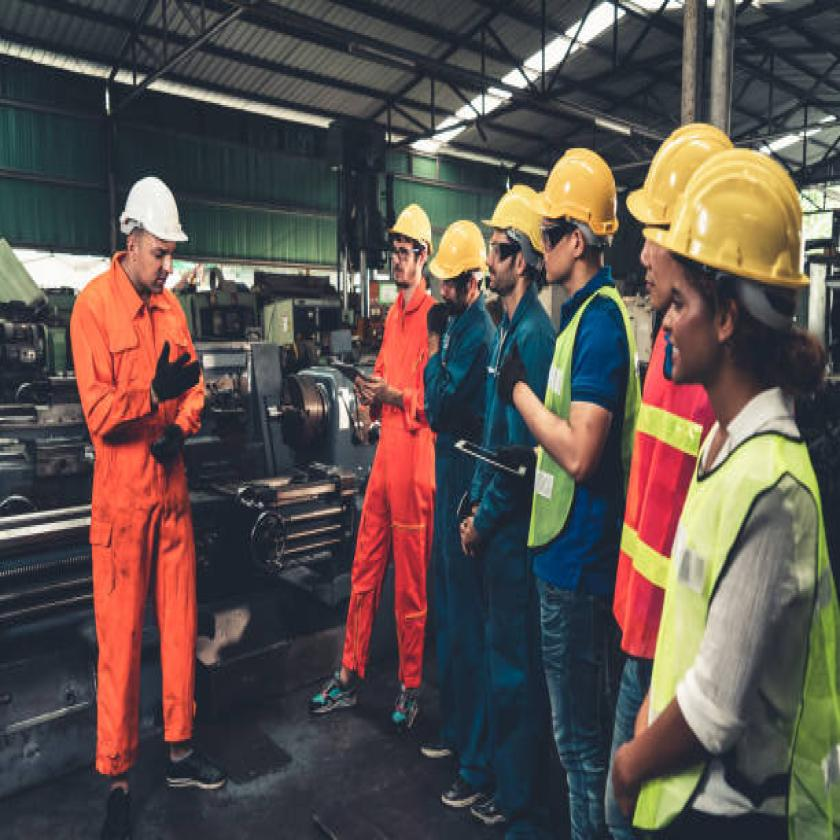Con_casco: (669, 152, 821, 412), (105, 163, 197, 325), (539, 148, 630, 278), (368, 190, 430, 305), (484, 182, 548, 288), (430, 212, 491, 308)
